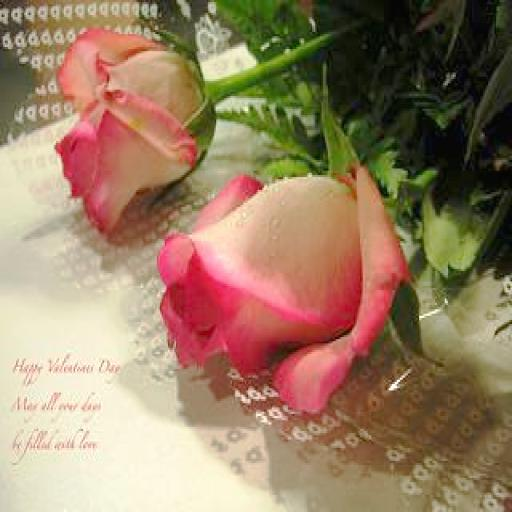rose: (152, 164, 422, 414), (54, 28, 212, 222)
